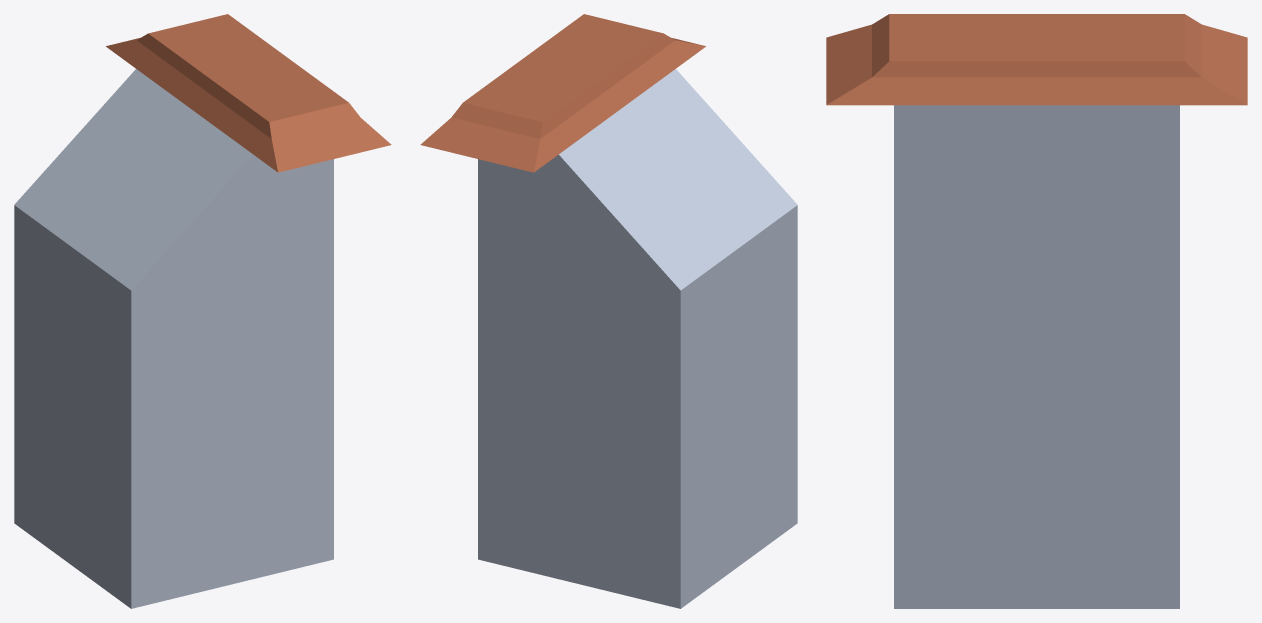
Rendered from bg_build2.fbx.
The picture shows the model from 3 angles, left to right: view 1: azimuth 30°, elevation 25°; view 2: azimuth 150°, elevation 25°; view 3: azimuth 270°, elevation 25°; orthographic projection. The views are drawn at different scales.
Visible parts, largest first — view 1: Cube.011; view 2: Cube.011; view 3: Cube.011.
Part boxes in pixels (<box>): Cube.011: <box>14,14,391,608</box>; Cube.011: <box>420,14,797,608</box>; Cube.011: <box>826,14,1247,608</box>.
Size of the model in its own units: 918 by 1716 by 1180.
